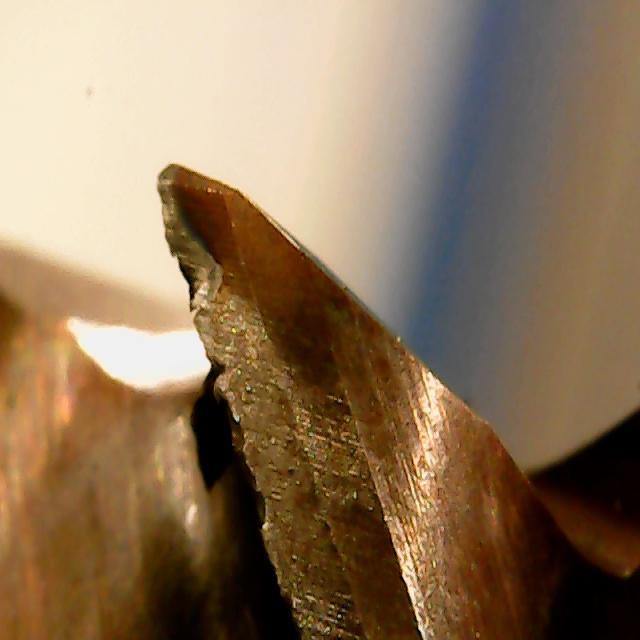Tool-wear-class-2: (149, 158, 306, 372)
